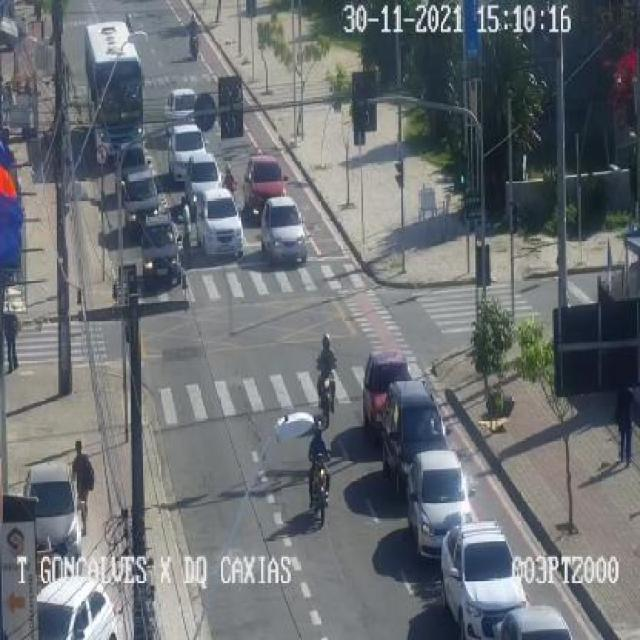car: (442, 521, 526, 640), (382, 380, 446, 491), (408, 450, 472, 558), (26, 461, 81, 556), (38, 576, 118, 640), (362, 351, 411, 438), (196, 188, 244, 257), (142, 215, 182, 292), (261, 196, 306, 262), (244, 155, 286, 212), (169, 124, 206, 181), (185, 154, 221, 209)
